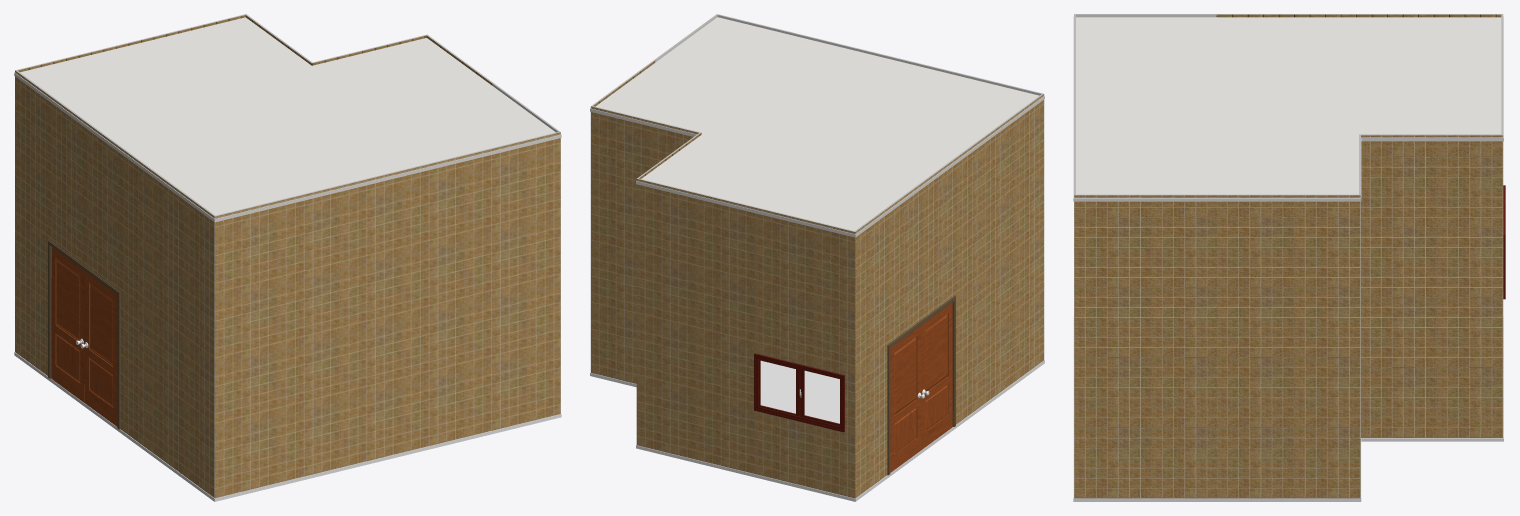
The model's file is ProcTHOR-Train-153.glb.
The picture shows the model from 3 angles, left to right: view 1: azimuth 30°, elevation 25°; view 2: azimuth 150°, elevation 25°; view 3: azimuth 270°, elevation 25°; orthographic projection. The views are drawn at different scales.
Visible parts, largest first — view 1: WallInside#wall|exterior|0.00|5.52|5.52|5.52, Ceiling#room|3|c, WallInside#wall|exterior|5.52|0.00|5.52|3.68, Ceiling#room|2|c, WallInside#wall|exterior|5.52|3.68|5.52|5.52, Doorway_Door_4a, Doorway_Door_4b, Floor#room|2|f, Doorway_Double_4, WallInside#wall|3|1.84|0.00|5.52|0.00; view 2: WallInside#wall|exterior|1.84|0.00|5.52|0.00, Ceiling#room|3|c, WallInside#wall|exterior|5.52|0.00|5.52|3.68, Ceiling#room|2|c, WallInside#wall|exterior|5.52|3.68|5.52|5.52, WallInside#wall|exterior|0.00|1.84|1.84|1.84, Floor#room|3|f, Doorway_Door_4b, Doorway_Door_4a, Window_Slider_60x36, Doorway_Double_4, WallInside#wall|2|0.00|5.52|5.52|5.52; view 3: Ceiling#room|3|c, WallInside#wall|exterior|0.00|1.84|0.00|3.68, WallInside#wall|exterior|0.00|3.68|0.00|5.52, WallInside#wall|exterior|1.84|0.00|1.84|1.84, Ceiling#room|2|c, Floor#room|3|f, WallInside#wall|3|5.52|0.00|5.52|3.68, Floor#room|2|f, WallInside#wall|2|5.52|3.68|5.52|5.52, WallInside#wall|exterior|0.00|5.52|5.52|5.52.
Boxes of the visible parts, x1=… form: WallInside#wall|exterior|0.00|5.52|5.52|5.52: x1=215, y1=132, x2=560, y2=498; Ceiling#room|3|c: x1=14, y1=17, x2=491, y2=172; WallInside#wall|exterior|5.52|0.00|5.52|3.68: x1=15, y1=70, x2=148, y2=449; Ceiling#room|2|c: x1=147, y1=85, x2=561, y2=222; WallInside#wall|exterior|5.52|3.68|5.52|5.52: x1=147, y1=168, x2=214, y2=497; Doorway_Door_4a: x1=84, y1=271, x2=117, y2=426; Doorway_Door_4b: x1=51, y1=247, x2=84, y2=402; Floor#room|2|f: x1=147, y1=414, x2=561, y2=501; Doorway_Double_4: x1=48, y1=239, x2=120, y2=429; WallInside#wall|3|1.84|0.00|5.52|0.00: x1=16, y1=14, x2=246, y2=72; WallInside#wall|exterior|1.84|0.00|5.52|0.00: x1=636, y1=178, x2=855, y2=498; Ceiling#room|3|c: x1=590, y1=63, x2=981, y2=237; WallInside#wall|exterior|5.52|0.00|5.52|3.68: x1=855, y1=139, x2=981, y2=498; Ceiling#room|2|c: x1=655, y1=17, x2=1044, y2=144; WallInside#wall|exterior|5.52|3.68|5.52|5.52: x1=981, y1=94, x2=1044, y2=405; WallInside#wall|exterior|0.00|1.84|1.84|1.84: x1=591, y1=106, x2=700, y2=383; Floor#room|3|f: x1=590, y1=360, x2=982, y2=501; Doorway_Door_4b: x1=890, y1=325, x2=921, y2=472; Doorway_Door_4a: x1=921, y1=302, x2=952, y2=449; Window_Slider_60x36: x1=754, y1=353, x2=844, y2=432; Doorway_Double_4: x1=887, y1=295, x2=955, y2=475; WallInside#wall|2|0.00|5.52|5.52|5.52: x1=717, y1=14, x2=1043, y2=95; Ceiling#room|3|c: x1=1216, y1=16, x2=1503, y2=201; WallInside#wall|exterior|0.00|1.84|0.00|3.68: x1=1216, y1=195, x2=1360, y2=498; WallInside#wall|exterior|0.00|3.68|0.00|5.52: x1=1074, y1=195, x2=1218, y2=498; WallInside#wall|exterior|1.84|0.00|1.84|1.84: x1=1361, y1=135, x2=1503, y2=437; Ceiling#room|2|c: x1=1073, y1=16, x2=1218, y2=201; Floor#room|3|f: x1=1217, y1=316, x2=1503, y2=501; WallInside#wall|3|5.52|0.00|5.52|3.68: x1=1216, y1=14, x2=1502, y2=17; Floor#room|2|f: x1=1073, y1=316, x2=1218, y2=501; WallInside#wall|2|5.52|3.68|5.52|5.52: x1=1074, y1=14, x2=1218, y2=17; WallInside#wall|exterior|0.00|5.52|5.52|5.52: x1=1074, y1=14, x2=1074, y2=497.
Bounding box in the file's own units: 5.64 × 4.36 × 5.58.
98 materials, 42 textured.
